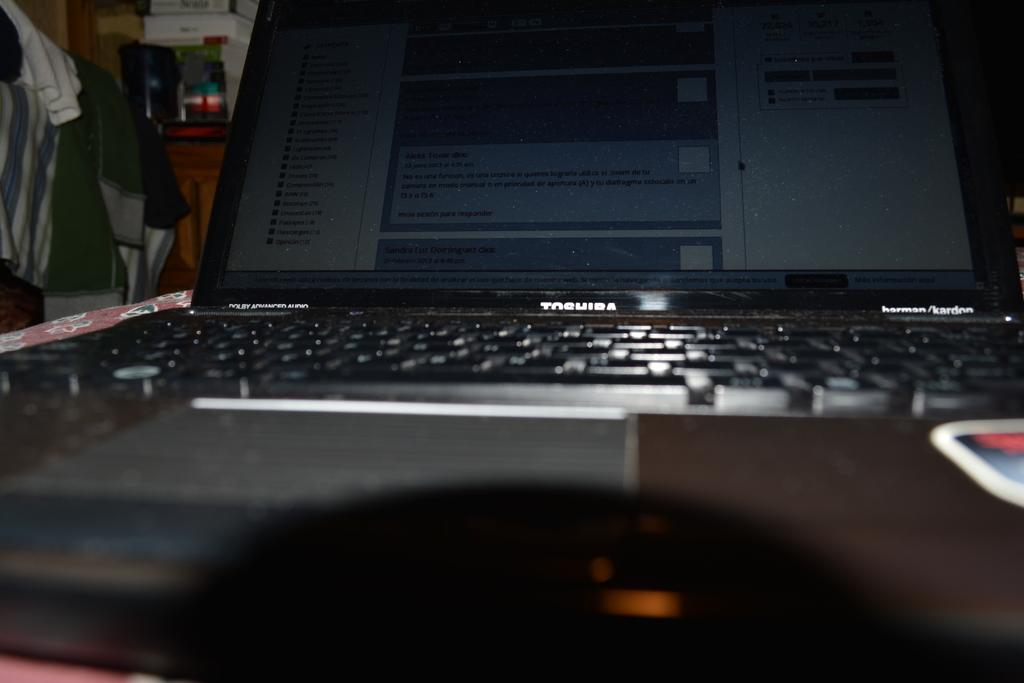Computer-keyboard: (3, 308, 1023, 416)
Laptop: (16, 2, 1005, 563)
